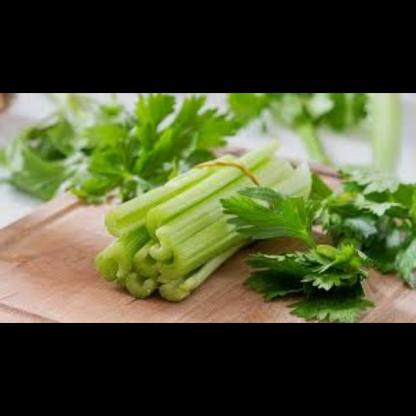celery: (84, 140, 314, 307)
